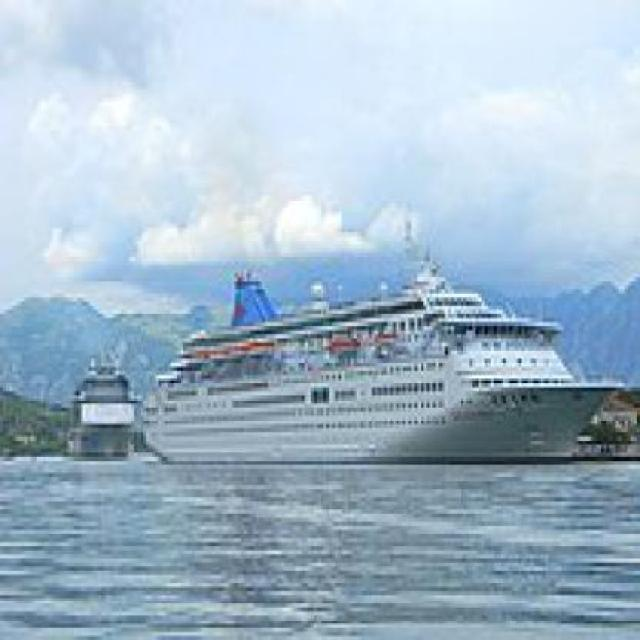cruise: (141, 262, 626, 482)
